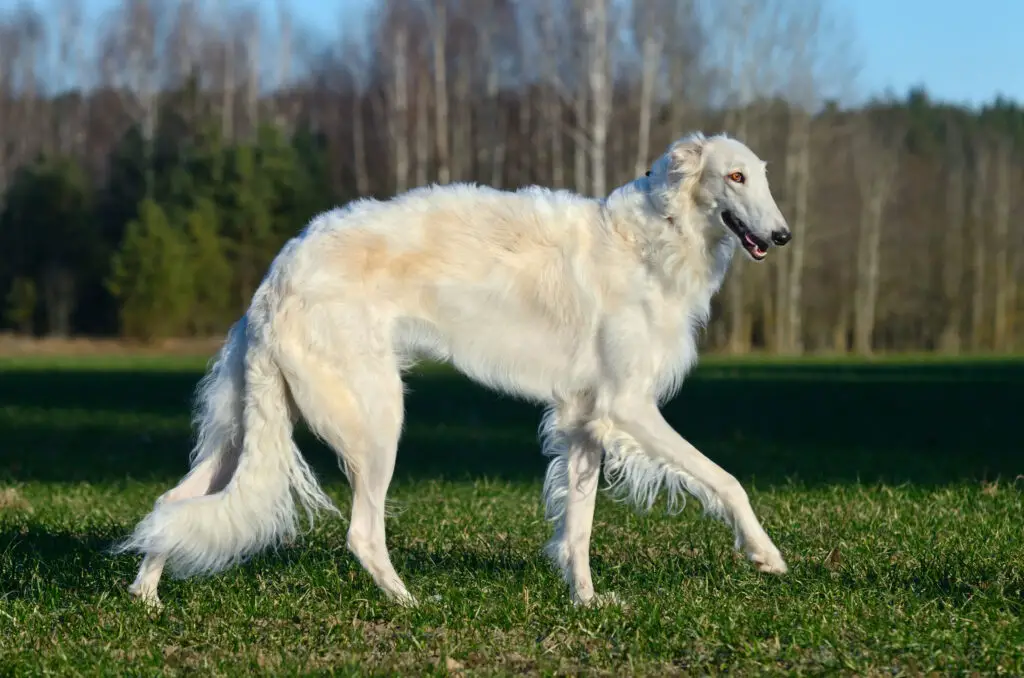borzoi: (123, 127, 829, 617)
